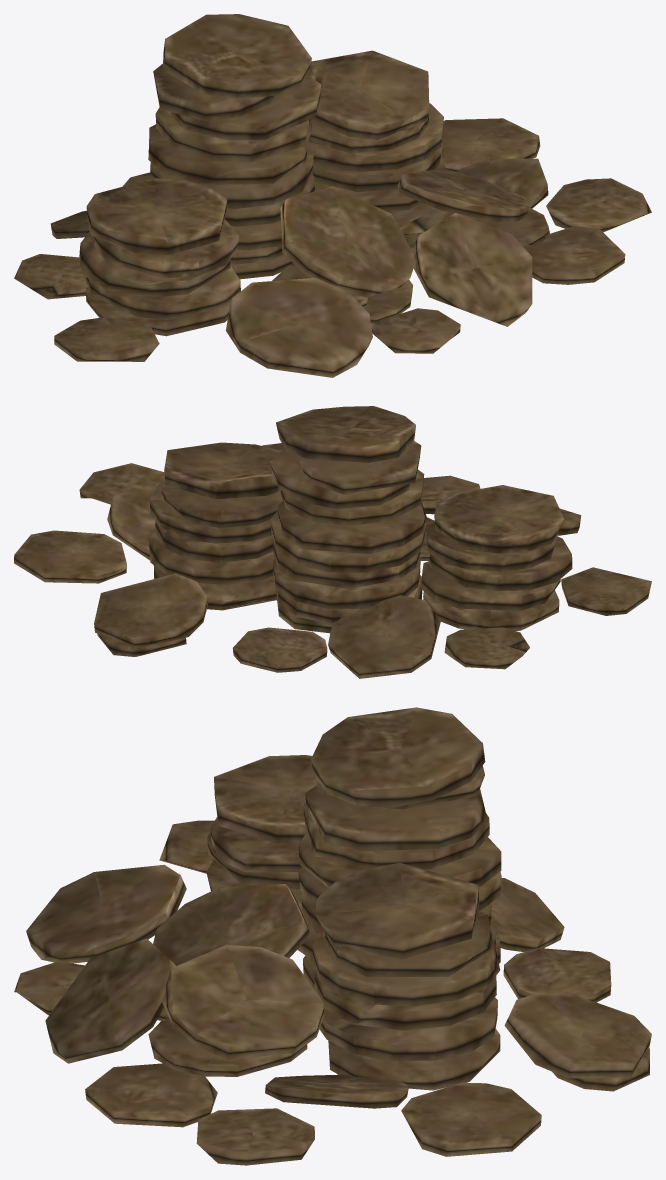
Rendered from d_coin_stack_small.glb.
3 views of the same model, one above another, from view 1: azimuth 30°, elevation 25°; view 2: azimuth 150°, elevation 25°; view 3: azimuth 270°, elevation 25° (orthographic). The views are drawn at different scales.
Parts seen in each view (by area): view 1: d_coin_stack_small; view 2: d_coin_stack_small; view 3: d_coin_stack_small.
Boxes of the visible parts, x1=… form: d_coin_stack_small: x1=14, y1=14, x2=651, y2=377; d_coin_stack_small: x1=14, y1=406, x2=651, y2=678; d_coin_stack_small: x1=14, y1=707, x2=651, y2=1165.
Bounding box in the file's own units: 0.9591 × 0.3342 × 0.7714.
1 material, 1 textured.
